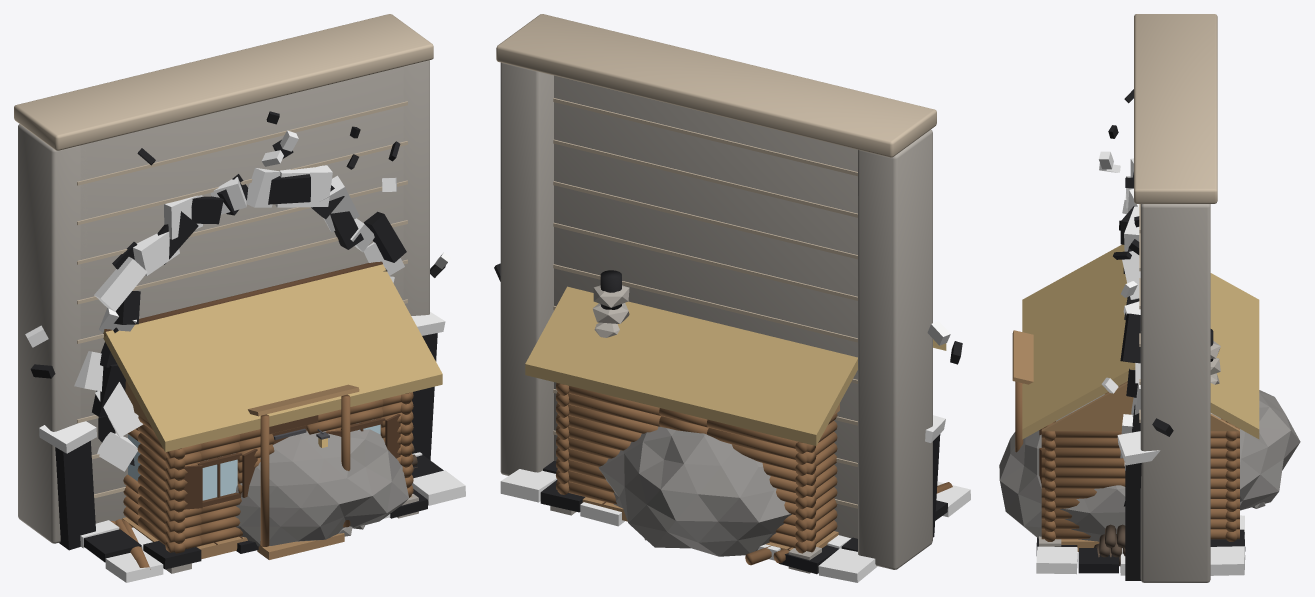
Rendered from Realm.glb.
3 views of the same model, side by side, from view 1: azimuth 30°, elevation 25°; view 2: azimuth 150°, elevation 25°; view 3: azimuth 270°, elevation 25° (orthographic). The views are drawn at different scales.
Parts seen in each view (by area): view 1: DoorWall__Stone_S1, ForestCabin__Thatch_S1, DoorWall__StoneWarm_S1, GlitchPortal__White_1, ForestRock3__Rock_S1, ForestCabin__Wood_S1, GlitchPortal__Black_1, GlitchPortal__Black_S1, DoorWall__StoneWarm_1, ForestCabin__WoodDark_1, GlitchPortal__White_S1, ForestCabin__Wood_1 (+3 smaller); view 2: DoorWall__Stone_S1, ForestCabin__Thatch_S1, DoorWall__StoneWarm_S1, ForestRock3__Rock_S1, ForestCabin__Wood_S1, DoorWall__StoneWarm_1, GlitchPortal__White_S1, GlitchPortal__Black_S1, ForestCabin__Stone_1, GlitchPortal__White_1; view 3: DoorWall__Stone_S1, ForestCabin__Thatch_S1, DoorWall__StoneWarm_S1, ForestRock3__Rock_S1, ForestCabin__Wood_S1, ForestCabin__Plank_1, GlitchPortal__White_1, GlitchPortal__Black_S1, GlitchPortal__Black_1, GlitchPortal__White_S1, ForestCabin__Bark_1, ForestCabin__Stone_1 (+1 smaller).
Part boxes in pixels (x1=…): DoorWall__Stone_S1: x1=18, y1=60, x2=429, y2=543; ForestCabin__Thatch_S1: x1=103, y1=264, x2=442, y2=452; DoorWall__StoneWarm_S1: x1=14, y1=14, x2=433, y2=150; GlitchPortal__White_1: x1=25, y1=130, x2=450, y2=471; ForestRock3__Rock_S1: x1=235, y1=429, x2=408, y2=546; ForestCabin__Wood_S1: x1=123, y1=392, x2=413, y2=553; GlitchPortal__Black_1: x1=30, y1=111, x2=445, y2=465; GlitchPortal__Black_S1: x1=55, y1=333, x2=443, y2=569; DoorWall__StoneWarm_1: x1=77, y1=101, x2=407, y2=498; ForestCabin__WoodDark_1: x1=103, y1=261, x2=400, y2=544; GlitchPortal__White_S1: x1=80, y1=452, x2=465, y2=582; ForestCabin__Wood_1: x1=260, y1=394, x2=350, y2=546; DoorWall__Stone_S1: x1=500, y1=62, x2=932, y2=569; ForestCabin__Thatch_S1: x1=525, y1=286, x2=946, y2=445; DoorWall__StoneWarm_S1: x1=496, y1=14, x2=936, y2=157; ForestRock3__Rock_S1: x1=598, y1=426, x2=791, y2=556; ForestCabin__Wood_S1: x1=556, y1=383, x2=837, y2=553; DoorWall__StoneWarm_1: x1=553, y1=98, x2=857, y2=508; GlitchPortal__White_S1: x1=500, y1=469, x2=970, y2=582; GlitchPortal__Black_S1: x1=540, y1=434, x2=947, y2=574; ForestCabin__Stone_1: x1=550, y1=285, x2=821, y2=573; GlitchPortal__White_1: x1=925, y1=321, x2=950, y2=442; DoorWall__Stone_S1: x1=1140, y1=204, x2=1210, y2=582; ForestCabin__Thatch_S1: x1=1022, y1=244, x2=1259, y2=439; DoorWall__StoneWarm_S1: x1=1134, y1=14, x2=1217, y2=203; ForestRock3__Rock_S1: x1=999, y1=390, x2=1300, y2=541; ForestCabin__Wood_S1: x1=1041, y1=421, x2=1239, y2=541; ForestCabin__Plank_1: x1=1012, y1=330, x2=1239, y2=431; GlitchPortal__White_1: x1=1098, y1=151, x2=1160, y2=553; GlitchPortal__Black_S1: x1=1036, y1=463, x2=1245, y2=580; GlitchPortal__Black_1: x1=1108, y1=89, x2=1173, y2=548; GlitchPortal__White_S1: x1=1036, y1=515, x2=1245, y2=575; ForestCabin__Bark_1: x1=1094, y1=524, x2=1125, y2=565; ForestCabin__Stone_1: x1=1039, y1=341, x2=1220, y2=546.
Bounding box in the file's own units: 34.13 × 34.9 × 21.58.
